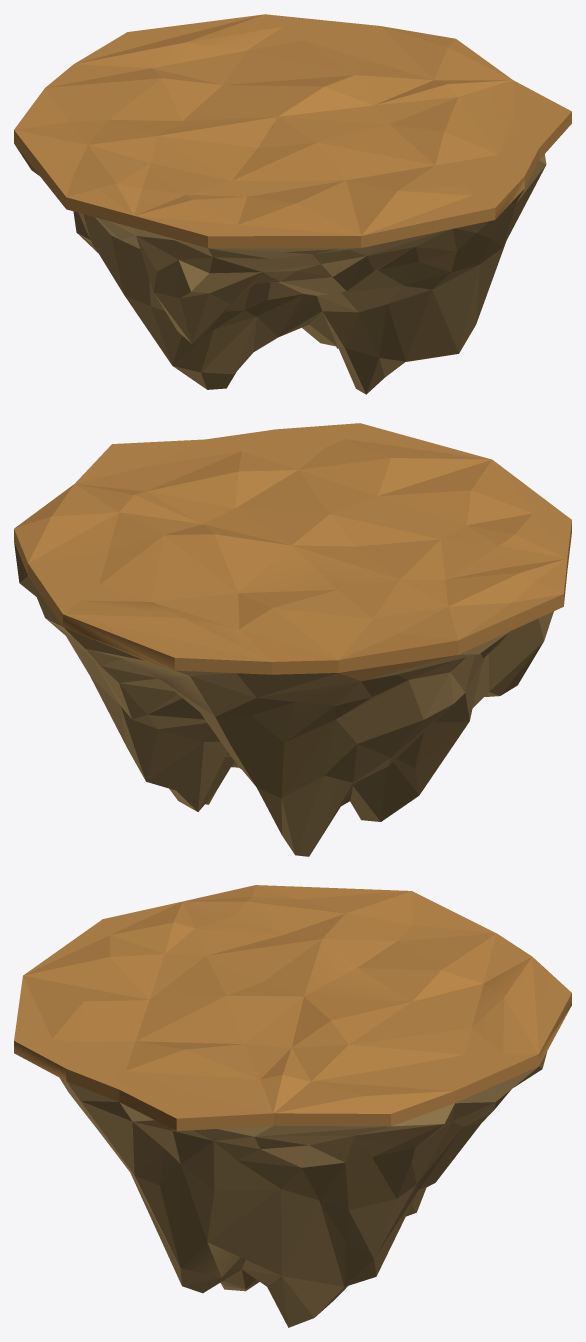
The picture shows the model from 3 angles, top to bottom: view 1: azimuth 30°, elevation 25°; view 2: azimuth 150°, elevation 25°; view 3: azimuth 270°, elevation 25°; orthographic projection. The views are drawn at different scales.
Parts seen in each view (by area): view 1: Landscape.001, Landscape; view 2: Landscape.001, Landscape; view 3: Landscape.001, Landscape.
Part boxes in pixels (left/top/right/bottom): Landscape.001: left=14, top=14, right=571, bottom=248; Landscape: left=15, top=145, right=546, bottom=394; Landscape.001: left=14, top=423, right=571, bottom=681; Landscape: left=14, top=542, right=553, bottom=856; Landscape.001: left=14, top=885, right=571, bottom=1130; Landscape: left=59, top=1051, right=547, bottom=1327.
Size of the model in its own units: 1900 by 1082 by 1917.
